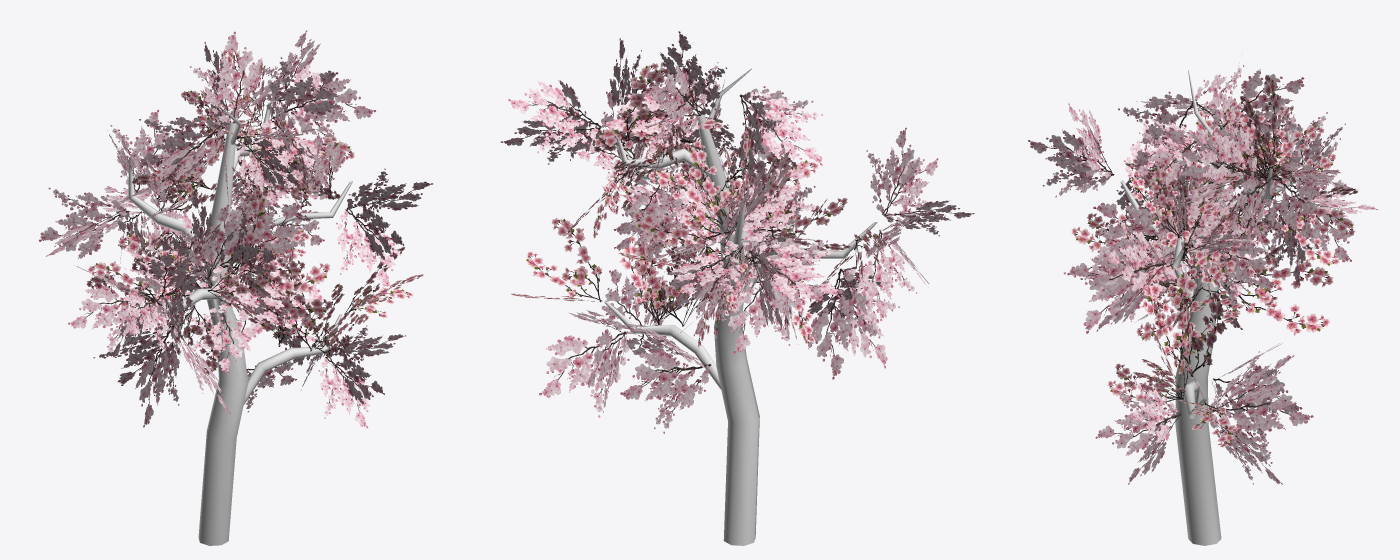
File: SakuraTree1.fbx
3 views of the same model, side by side, from view 1: azimuth 30°, elevation 25°; view 2: azimuth 150°, elevation 25°; view 3: azimuth 270°, elevation 25° (orthographic). The views are drawn at different scales.
Visible parts, largest first — view 1: SakuraTree1; view 2: SakuraTree1; view 3: SakuraTree1.
Boxes of the visible parts, <box> form: SakuraTree1: <box>39,30,432,545</box>; SakuraTree1: <box>500,31,974,545</box>; SakuraTree1: <box>1028,64,1378,545</box>.
Bounding box in the file's own units: 631 × 765 × 499.
